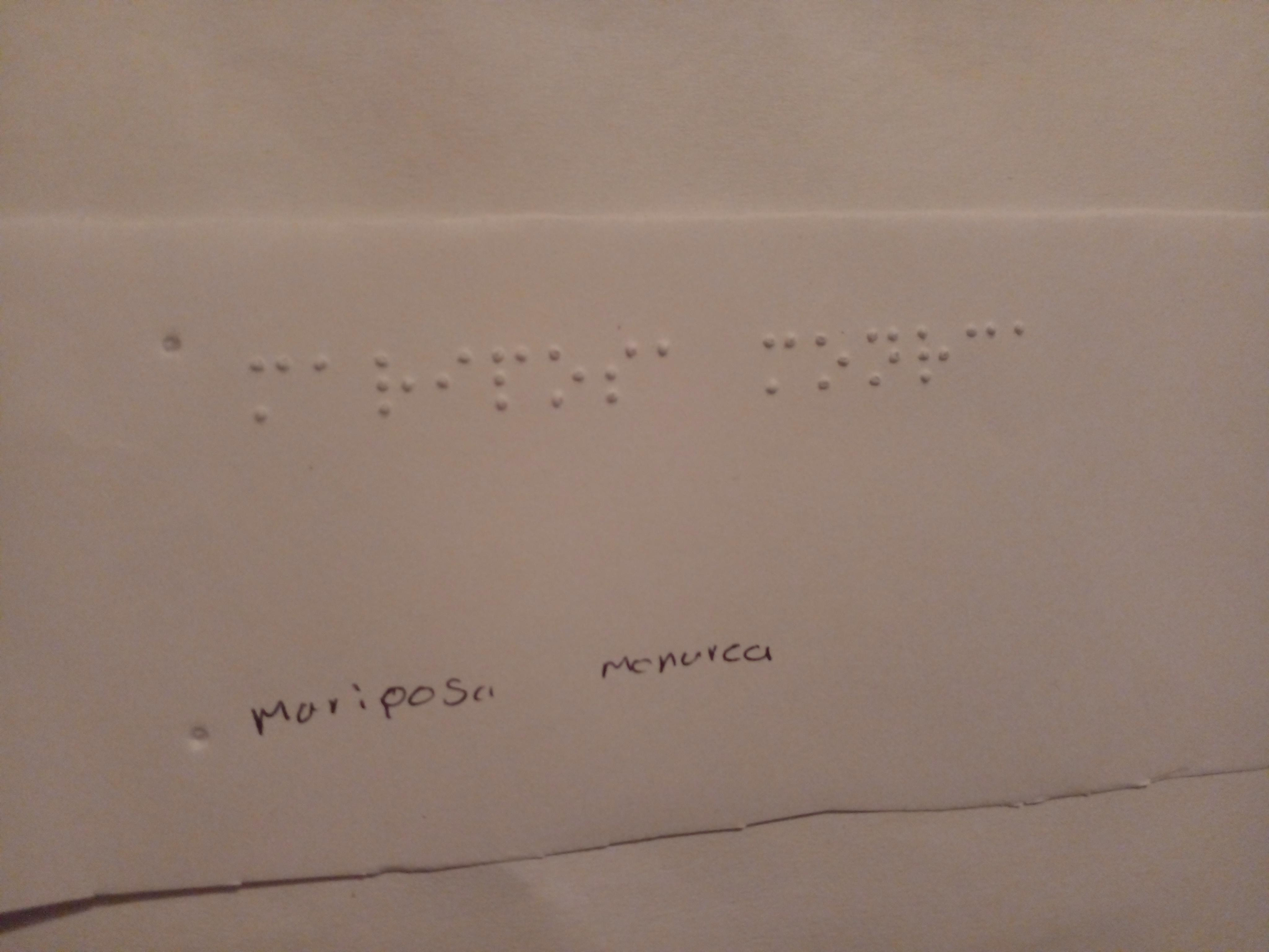a: (304, 350, 345, 415), (1008, 313, 1044, 356), (644, 336, 675, 375)
c: (959, 321, 1002, 358)
i: (434, 346, 474, 411)
m: (242, 347, 299, 429), (761, 330, 806, 398)
n: (864, 318, 906, 401)
o: (541, 339, 587, 420), (815, 333, 854, 406)
p: (483, 342, 531, 417)
r: (369, 353, 420, 425), (914, 321, 954, 392)
s: (601, 341, 637, 411)
